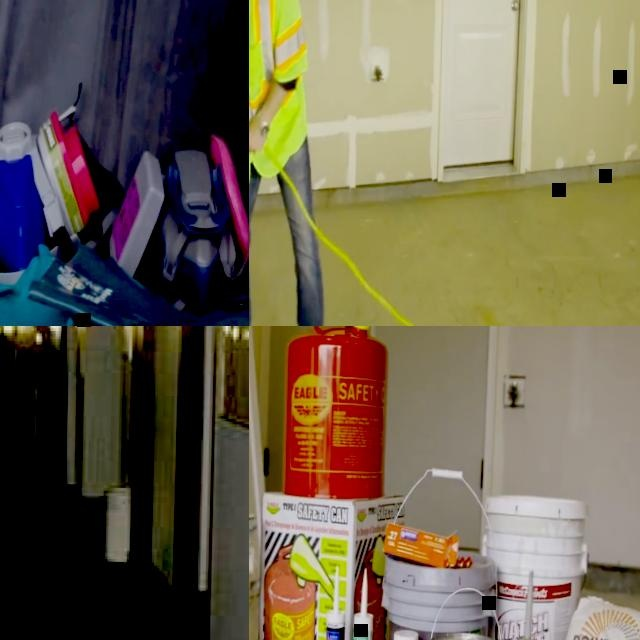Mask: (106, 129, 249, 302), (0, 107, 104, 273)
Person: (249, 0, 354, 326)
Safety Vest: (249, 0, 309, 195)
